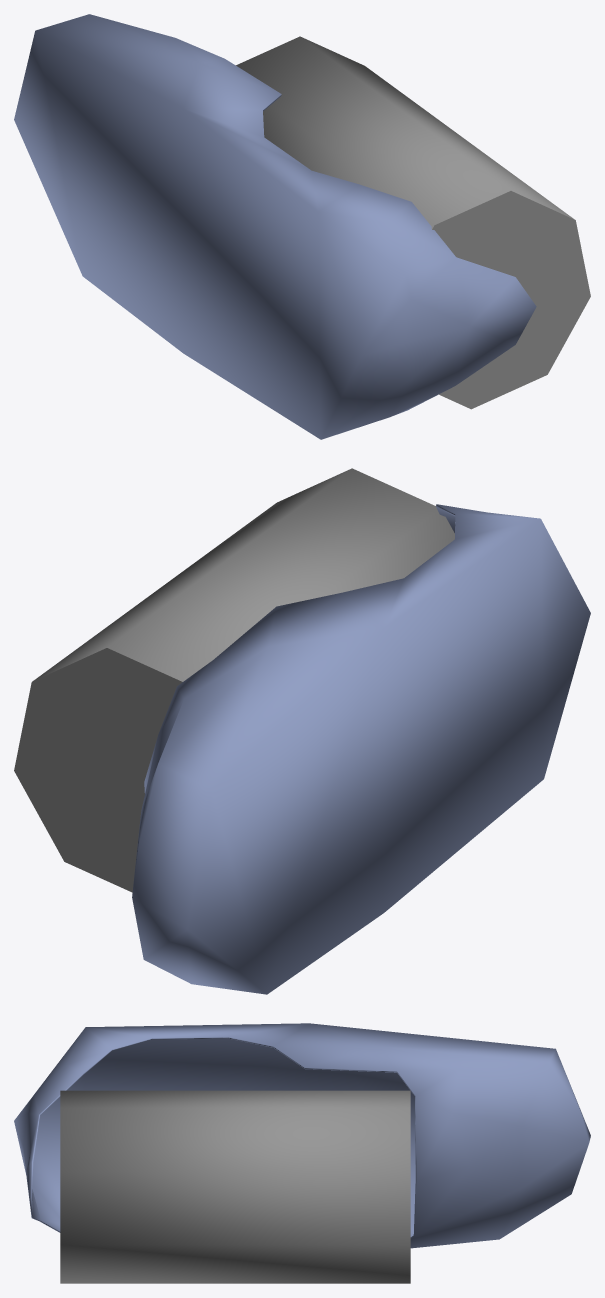
Rendered from icub_simple_r_foot.dae.
3 views of the same model, one above another, from view 1: azimuth 30°, elevation 25°; view 2: azimuth 150°, elevation 25°; view 3: azimuth 270°, elevation 25° (orthographic). The views are drawn at different scales.
Visible parts, largest first — view 1: r_foot_mesh; view 2: r_foot_mesh; view 3: r_foot_mesh.
Part boxes in pixels (x1=…): r_foot_mesh: x1=14, y1=14, x2=590, y2=439; r_foot_mesh: x1=14, y1=468, x2=590, y2=994; r_foot_mesh: x1=14, y1=1023, x2=590, y2=1283.
Bounding box in the file's own units: 0.067 × 0.061 × 0.1565.
